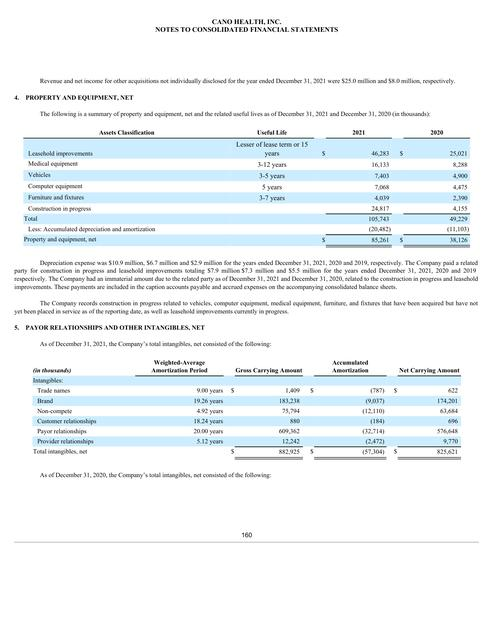box: (21, 128, 472, 250), (33, 358, 463, 462)
